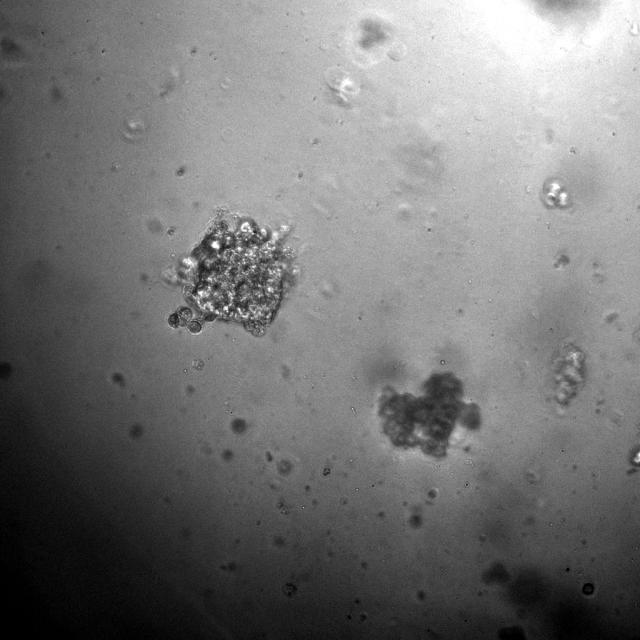organoid: (166, 208, 300, 336), (378, 372, 481, 458), (553, 343, 586, 405), (541, 178, 571, 209), (630, 442, 639, 467), (581, 581, 595, 597)
